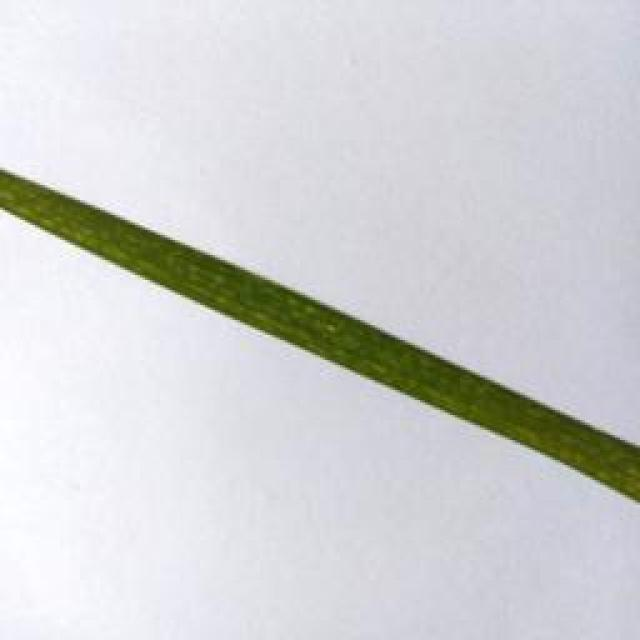Healthy-Plant: (0, 162, 640, 499)
